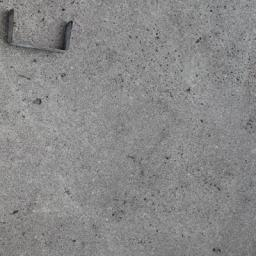FOD: (7, 7, 77, 58)
